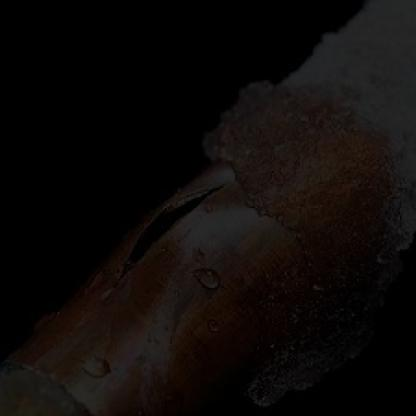burst: (119, 168, 231, 295)
